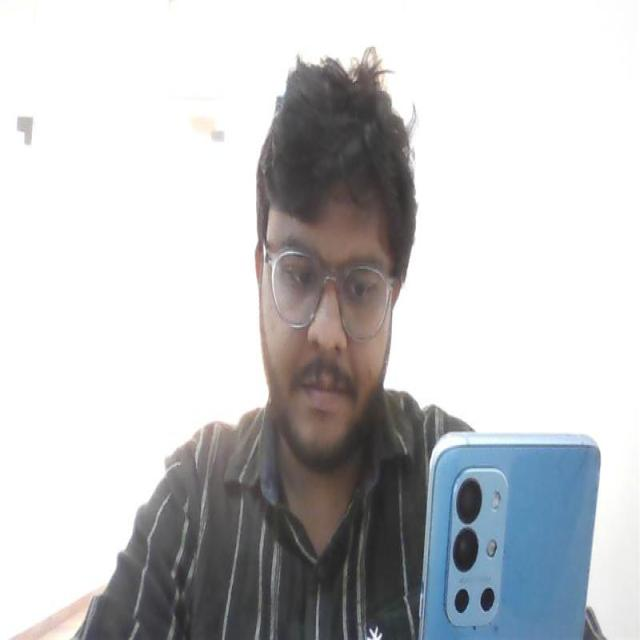phone: (421, 429, 602, 640)
